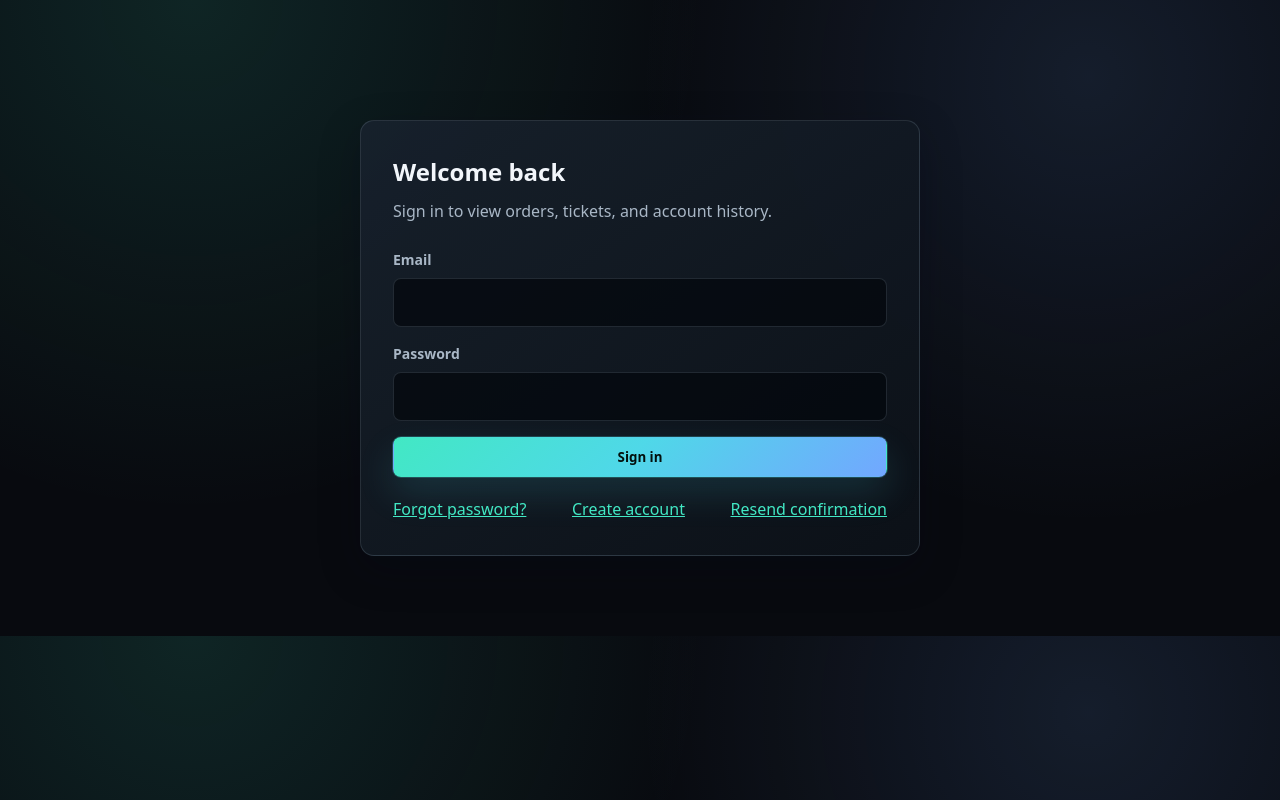
settles a thrown sign-in request so the user can retry
The image size is (1280, 800).
Step 1. Type "customer@example.test" into the field labelled "Email" → (640, 303), box [393,278,887,327]
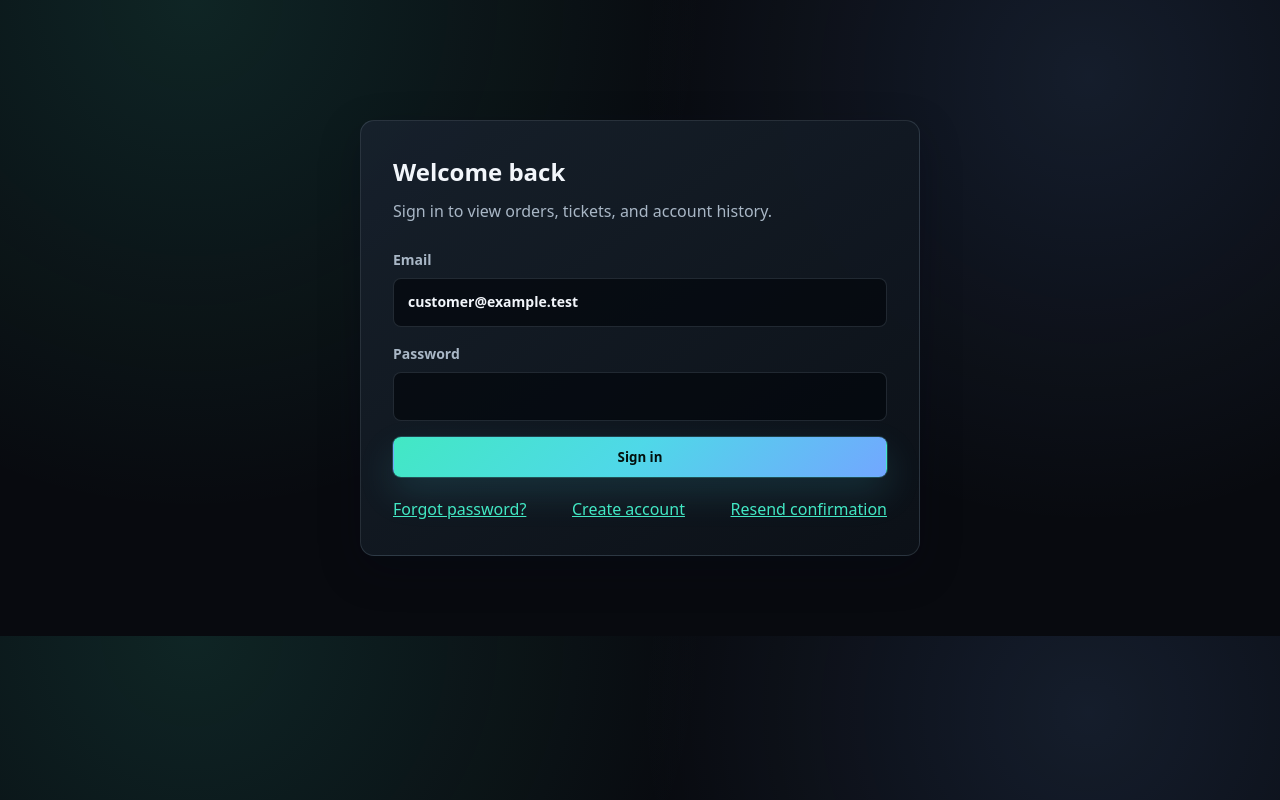
Step 2. Type "StrongPassword123!" into the password field labelled "Password" → (640, 396), box [393,372,887,421]
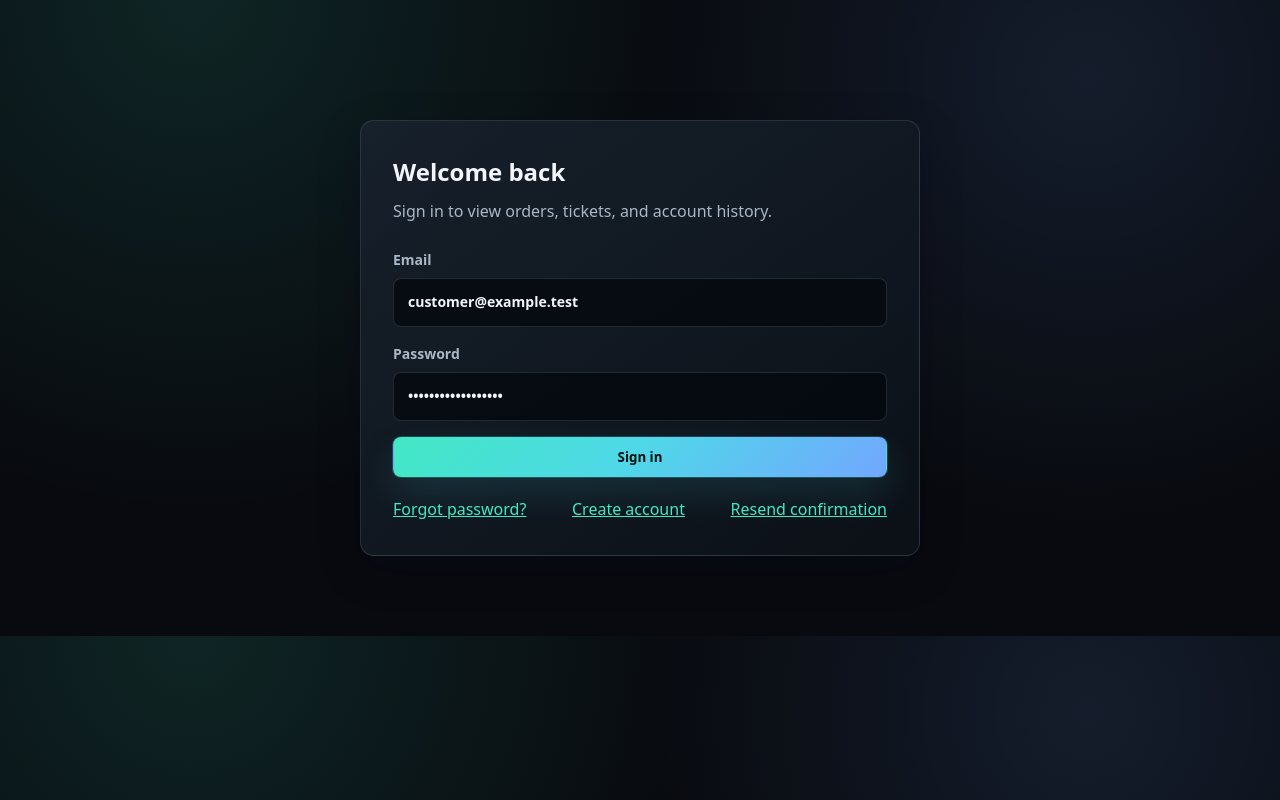
Step 3. Submit the form labelled "Email", box [393,249,887,477]
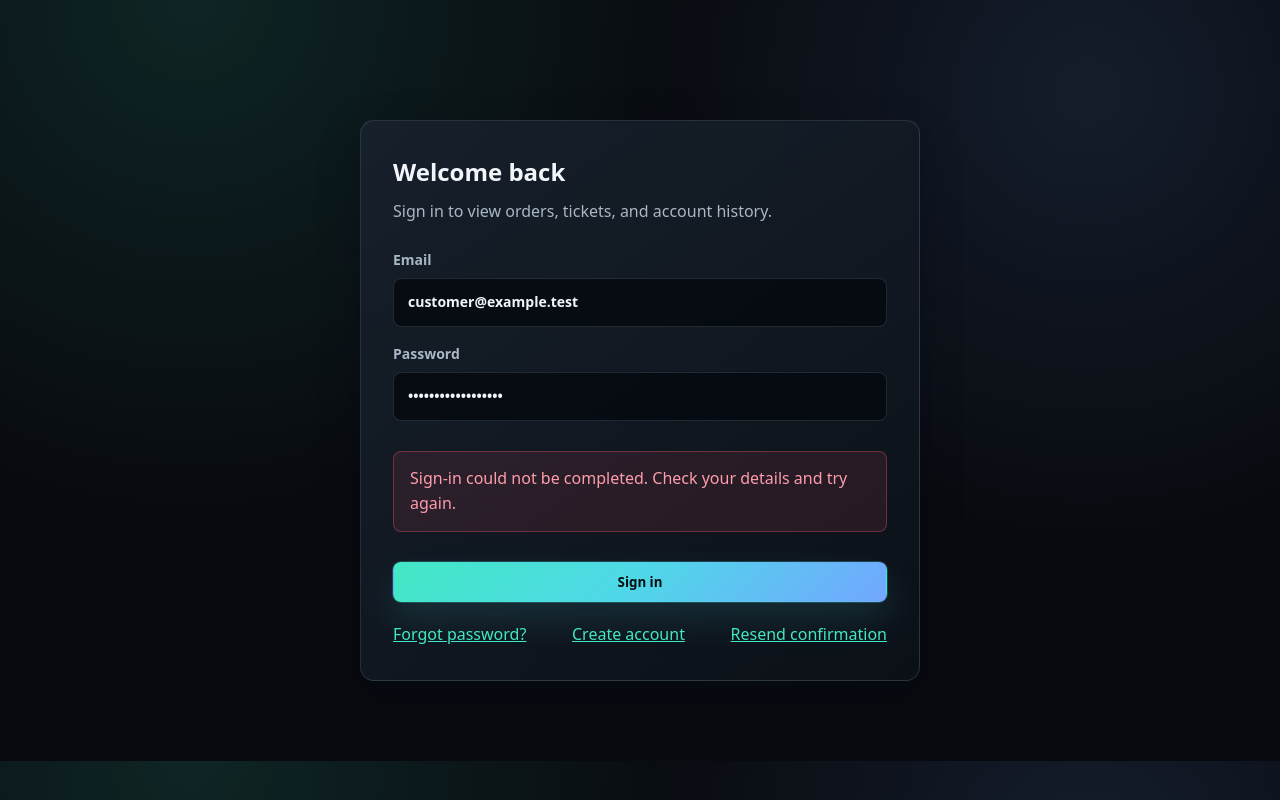
Expected: the button "Sign in" is enabled, [393,562,887,602]
Now the message "Sign-in could not be completed. Check your details and try again." is shown, box [393,450,887,532]
